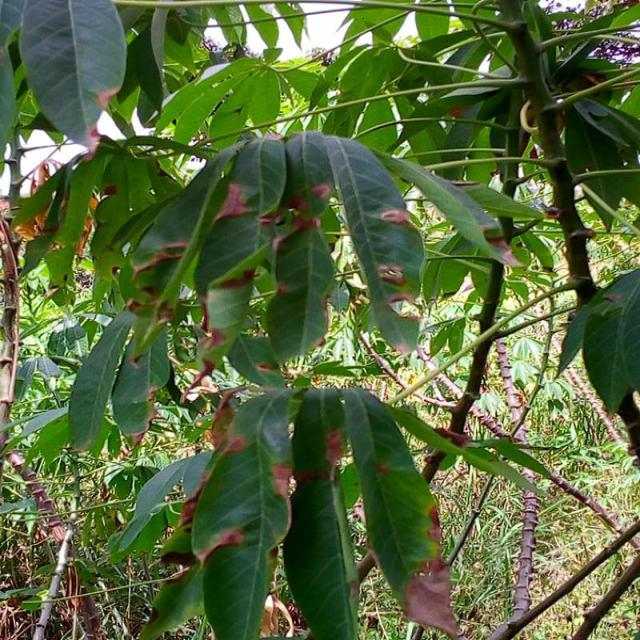cassava leaf: (18, 0, 128, 147)
